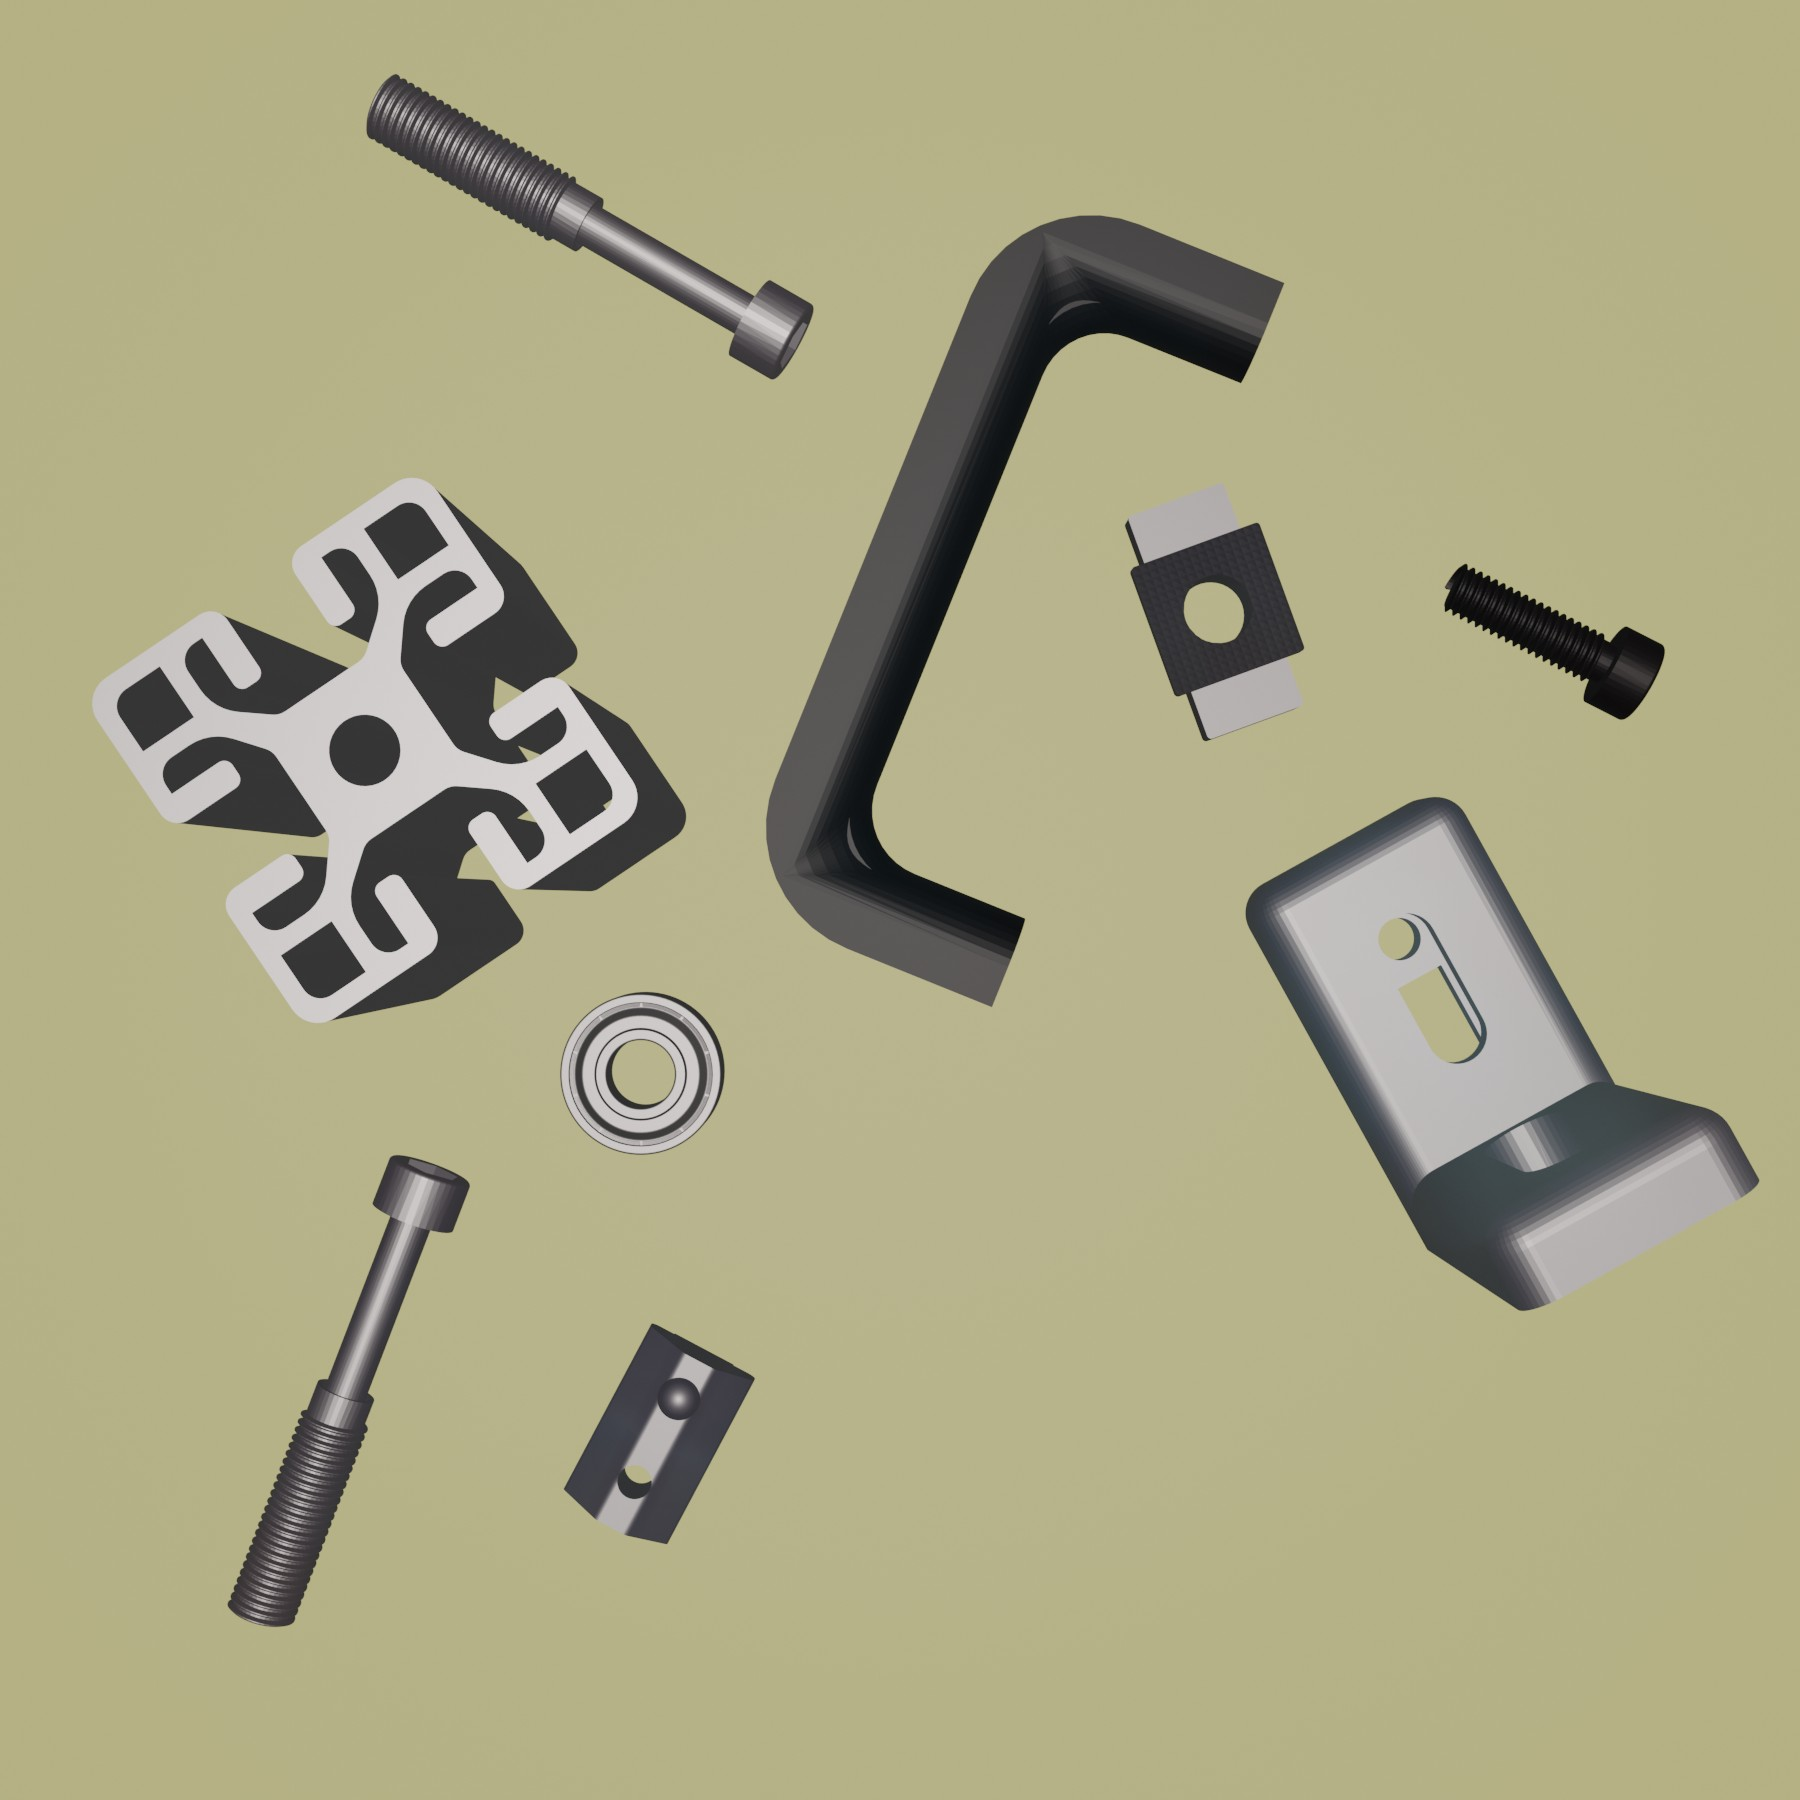Aluminium Extension: (86, 471, 687, 1030)
Ball Bearing: (555, 987, 729, 1159)
Multiwinkel: (1241, 793, 1762, 1314)
Pull Handle: (765, 213, 1286, 1010)
Shoulder Socket Head Cap Screw: (363, 69, 816, 384), (223, 1151, 473, 1630)
Socket Head Cap Screw: (1437, 559, 1666, 724)
T Nut Square: (1123, 485, 1310, 747)
T Spring Nut: (559, 1322, 758, 1546)
